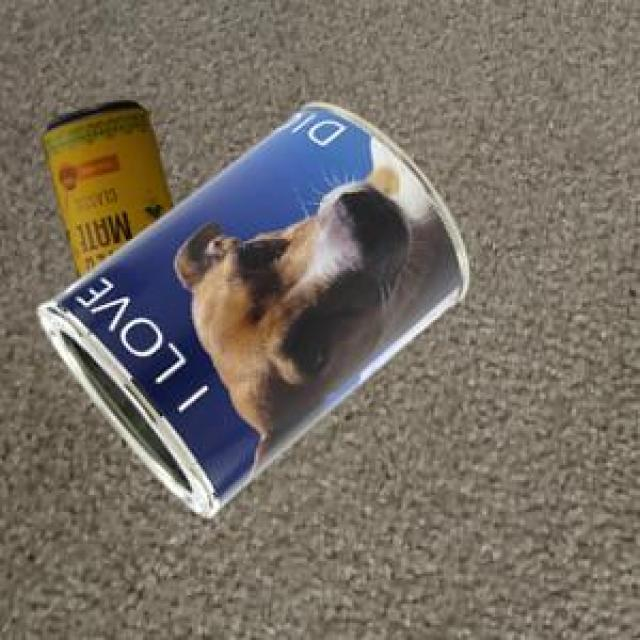Can: (35, 99, 466, 515), (39, 99, 170, 276)
